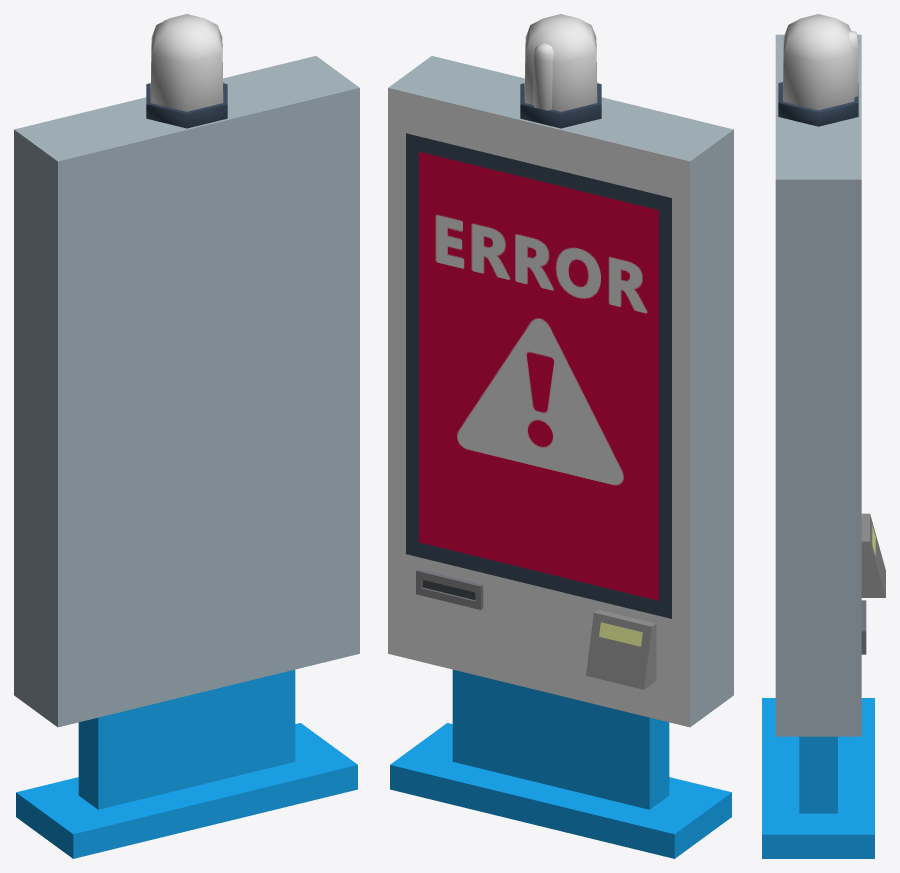
Rendered from OrderKiosk_geo.fbx.
3 renders of one model, left to right at view 1: azimuth 30°, elevation 25°; view 2: azimuth 150°, elevation 25°; view 3: azimuth 270°, elevation 25°, orthographic.
Parts seen in each view (by area): view 1: OrderKiosk_geo, OrderKiosk_error_geo; view 2: OrderKiosk_geo, OrderKiosk_error_geo; view 3: OrderKiosk_geo, OrderKiosk_error_geo.
Part boxes in pixels (box(x1,y1,x2,y2)): OrderKiosk_geo: box(14, 56, 359, 858); OrderKiosk_error_geo: box(150, 14, 223, 111); OrderKiosk_geo: box(388, 56, 733, 858); OrderKiosk_error_geo: box(419, 14, 658, 600); OrderKiosk_geo: box(762, 34, 885, 858); OrderKiosk_error_geo: box(783, 14, 858, 110).
Bounding box in the file's own units: 0.9949 × 0.3586 × 2.46.
